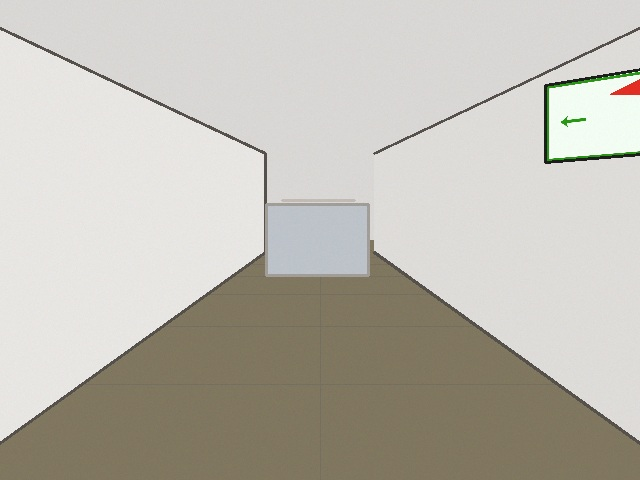cart: (610, 0, 639, 423)
directional_sign: (545, 53, 639, 162)
hospital_bed: (266, 204, 368, 275)
